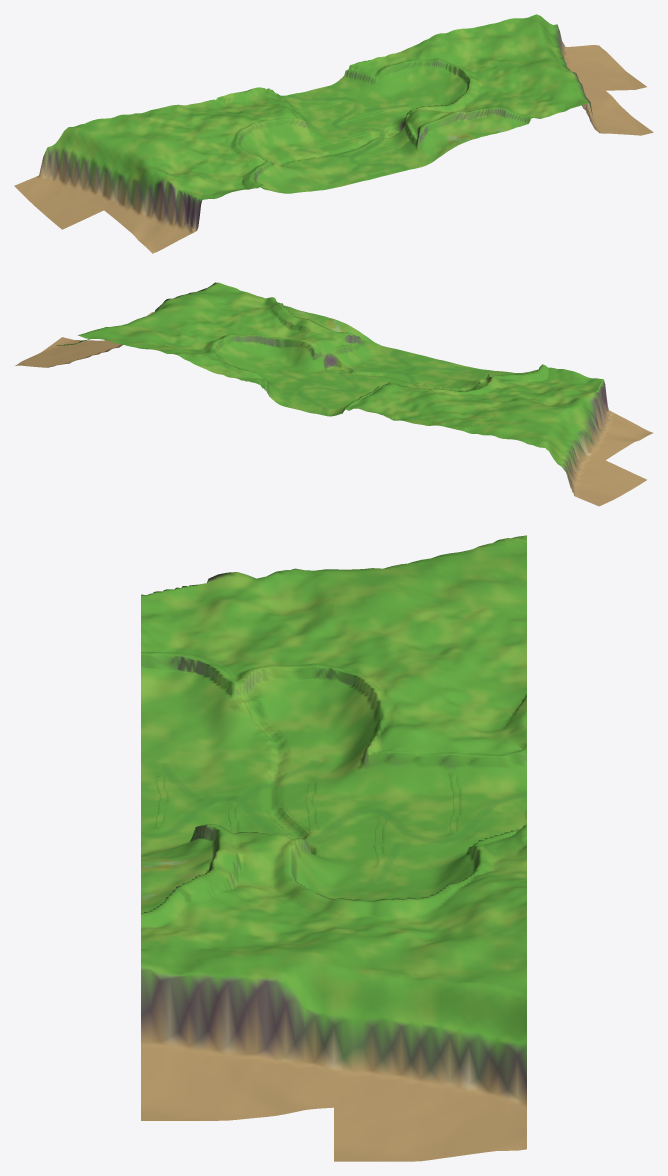
The model's file is terrain.glb.
3 renders of one model, top to bottom at view 1: azimuth 30°, elevation 25°; view 2: azimuth 150°, elevation 25°; view 3: azimuth 270°, elevation 25°, orthographic. The views are drawn at different scales.
Visible parts, largest first — view 1: terrain_1_3, terrain_3_3, terrain_2_3, terrain_4_3; view 2: terrain_3_3, terrain_1_3, terrain_2_3, terrain_4_3; view 3: terrain_2_3, terrain_3_3, terrain_4_3, terrain_1_3.
Part boxes in pixels (x1,y1,x2,y2): terrain_1_3: [14, 104, 276, 253]; terrain_3_3: [348, 18, 611, 152]; terrain_2_3: [181, 69, 444, 193]; terrain_4_3: [516, 14, 653, 135]; terrain_3_3: [98, 282, 360, 391]; terrain_1_3: [432, 364, 653, 506]; terrain_2_3: [265, 332, 527, 425]; terrain_4_3: [15, 312, 153, 367]; terrain_2_3: [141, 655, 526, 863]; terrain_3_3: [141, 824, 526, 1061]; terrain_4_3: [141, 972, 526, 1161]; terrain_1_3: [141, 535, 526, 691].
Bounding box in the file's own units: 630 × 58.76 × 180.
